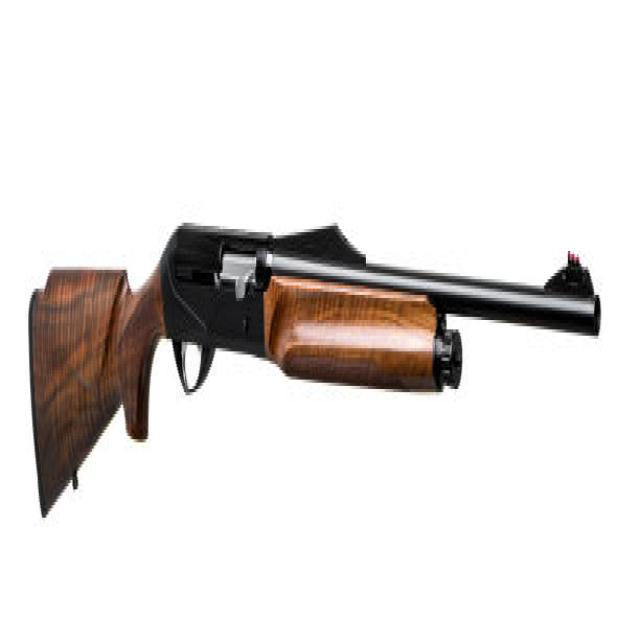rifle: (20, 212, 607, 547)
